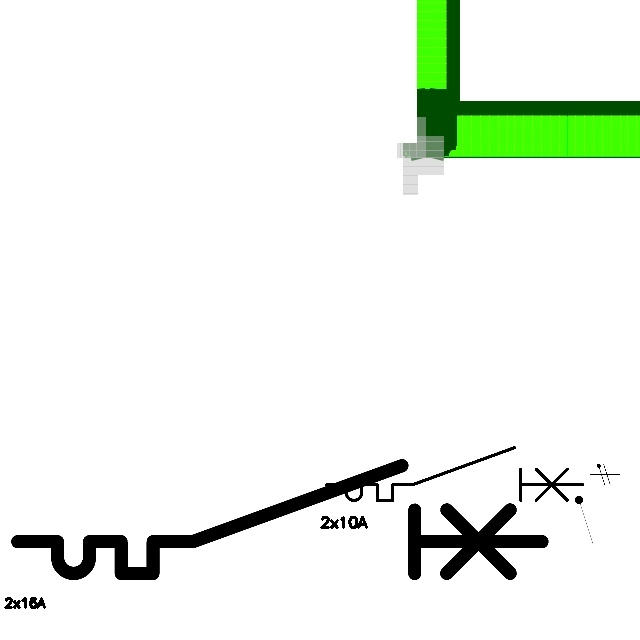interruptor_termomagnetico: (4, 452, 556, 587), (320, 441, 590, 507)
